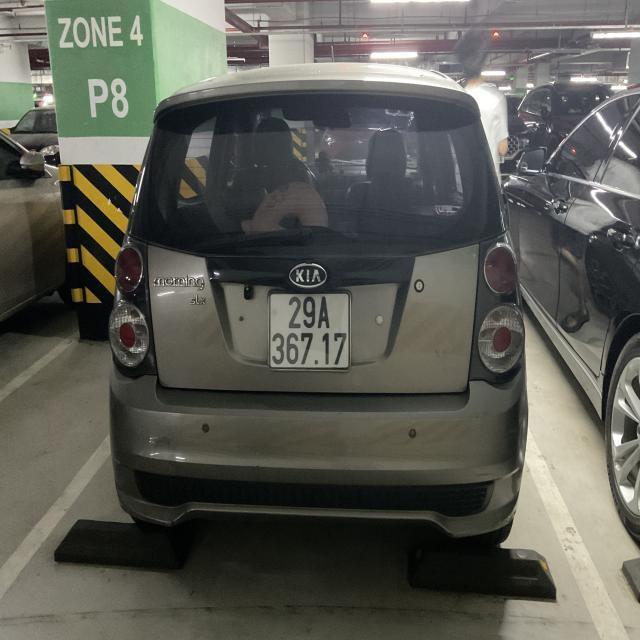license: (267, 291, 350, 370)
